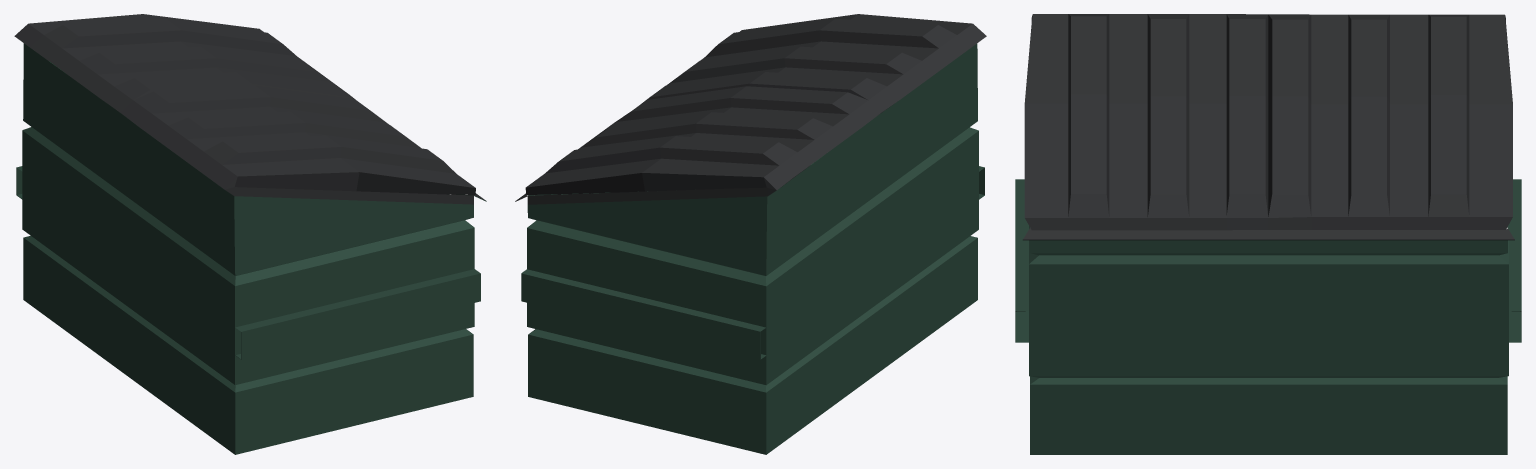
Rendered from dumpsterClosed Lid.fbx.
3 views of the same model, side by side, from view 1: azimuth 30°, elevation 25°; view 2: azimuth 150°, elevation 25°; view 3: azimuth 270°, elevation 25° (orthographic). The views are drawn at different scales.
Parts seen in each view (by area): view 1: Cube; view 2: Cube; view 3: Cube.
Part boxes in pixels (<box>): Cube: <box>14,14,486,454</box>; Cube: <box>515,14,986,454</box>; Cube: <box>1015,14,1521,454</box>.
Size of the model in its own units: 420 by 441 by 633.
